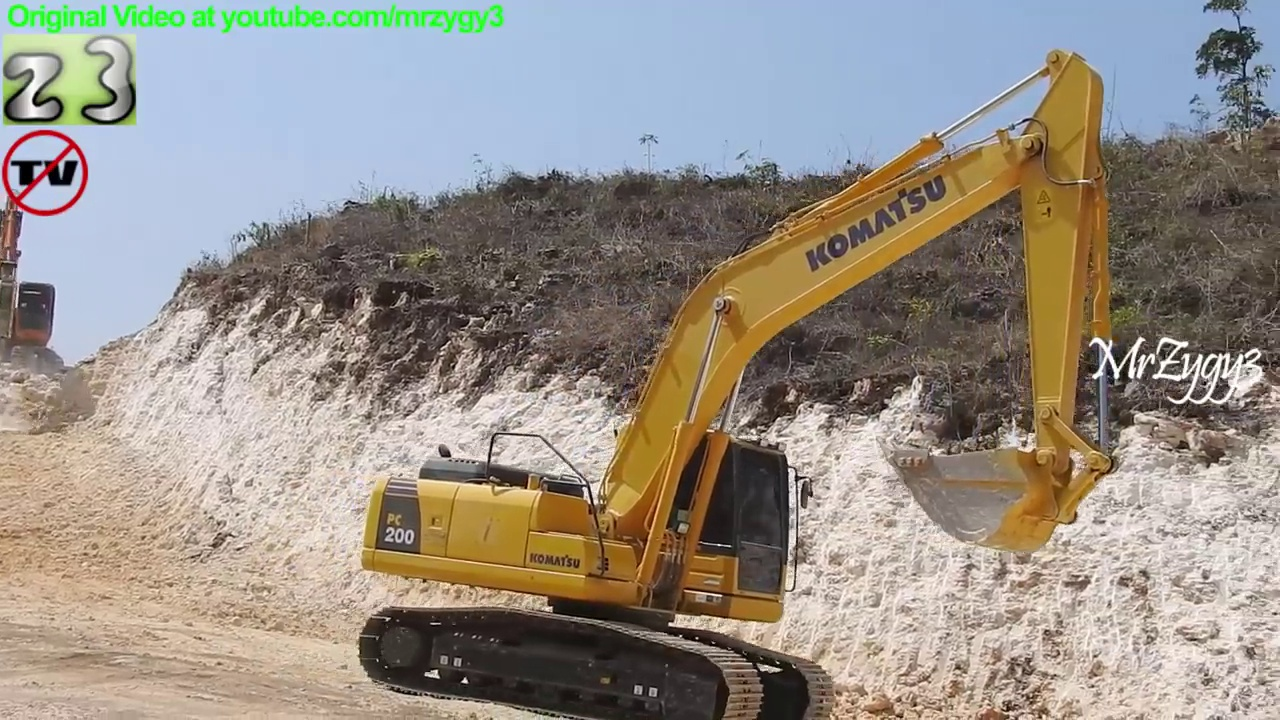excavator: (355, 47, 1125, 720), (1, 180, 68, 396)
